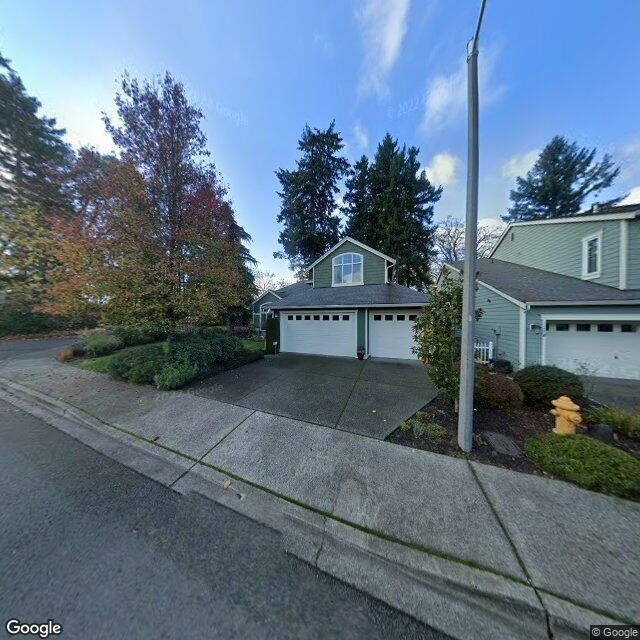hydrant: (544, 390, 587, 445)
